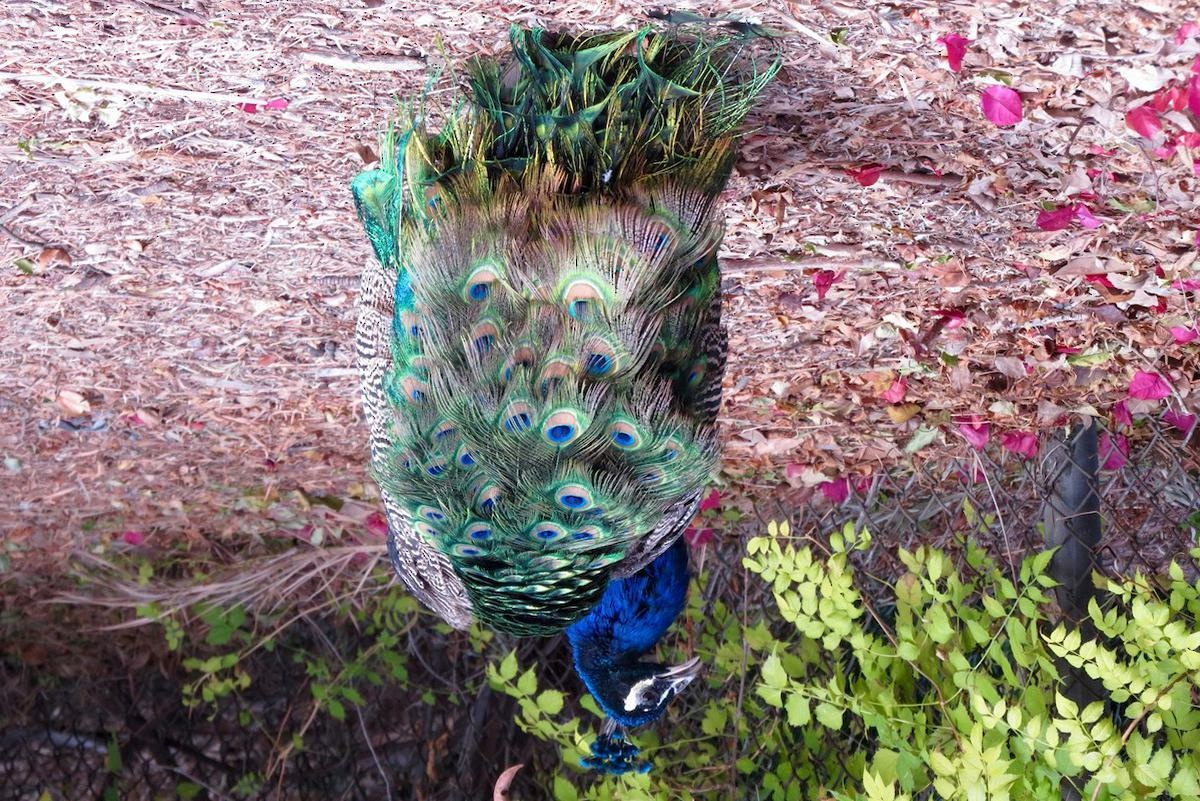peacock: (320, 81, 775, 726)
